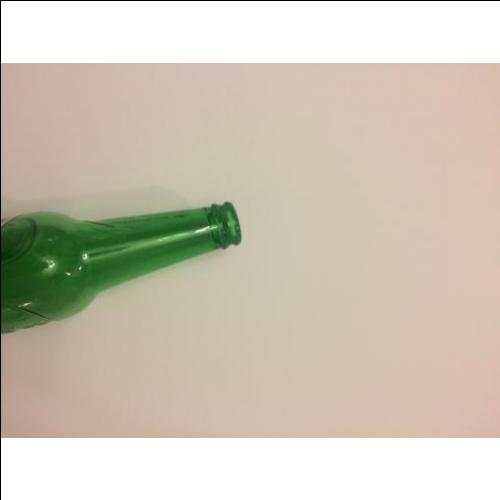glass: (0, 203, 241, 335)
